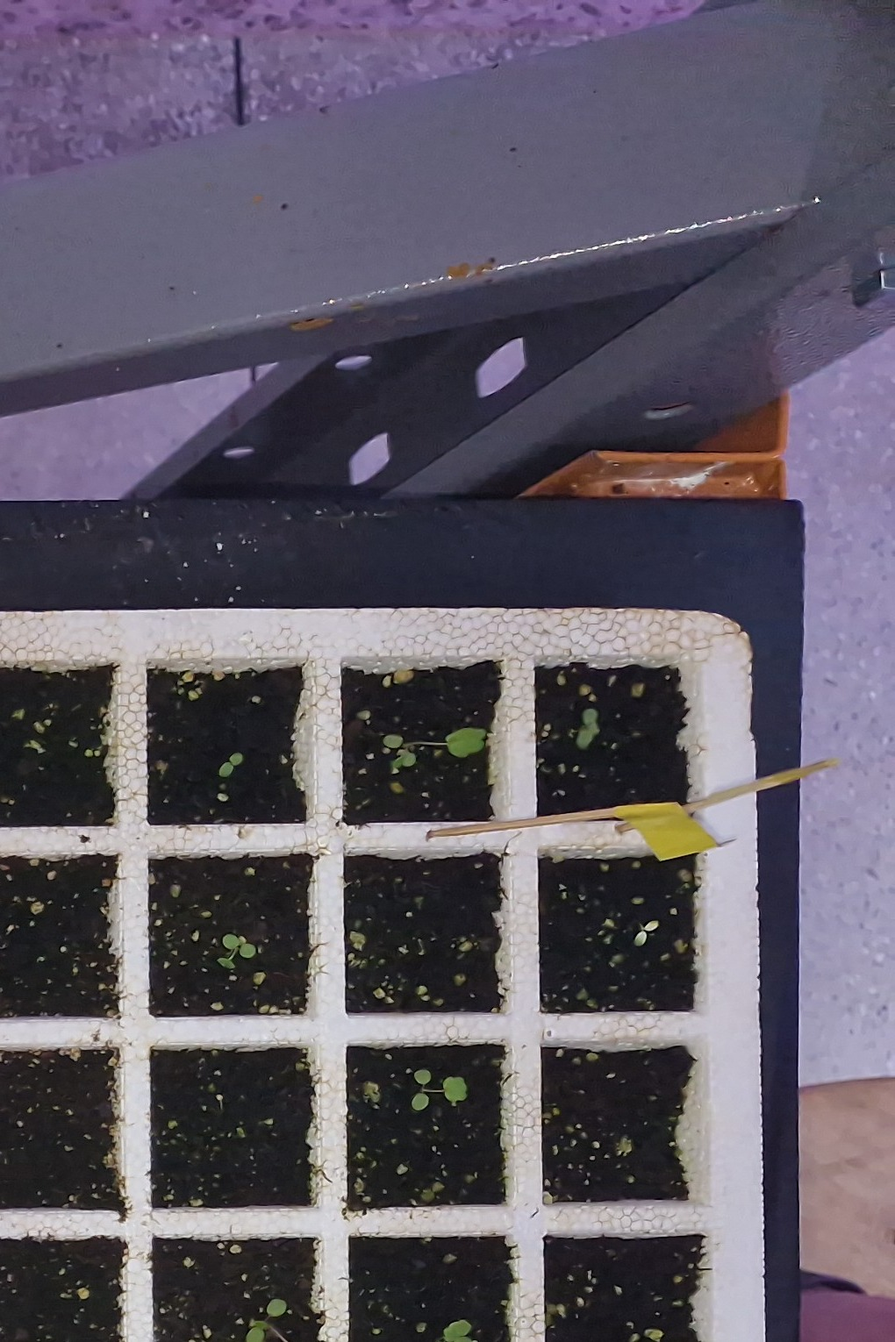Folha: (447, 728, 486, 757), (443, 1076, 468, 1101), (444, 1321, 471, 1342), (267, 1299, 286, 1316), (246, 1327, 264, 1342), (412, 1094, 428, 1110), (577, 730, 592, 747), (384, 735, 402, 748), (223, 934, 239, 948), (415, 1070, 431, 1084), (240, 944, 255, 958), (219, 762, 233, 777), (584, 709, 597, 725), (218, 958, 235, 968), (645, 920, 659, 931), (635, 932, 646, 946), (230, 753, 242, 765), (403, 754, 416, 765)
Germinacao: (247, 1299, 342, 1342), (383, 728, 486, 767), (412, 1070, 467, 1110), (218, 934, 255, 968), (577, 709, 601, 747), (635, 921, 658, 946), (220, 753, 242, 776)
